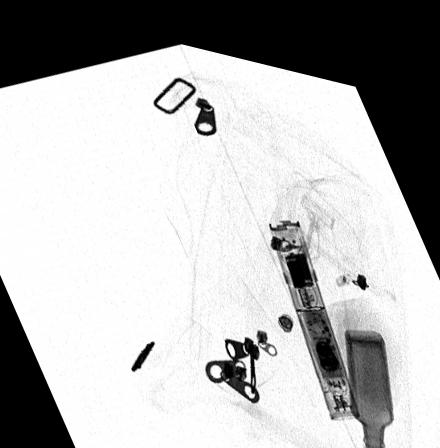Baton: (267, 203, 361, 403)
